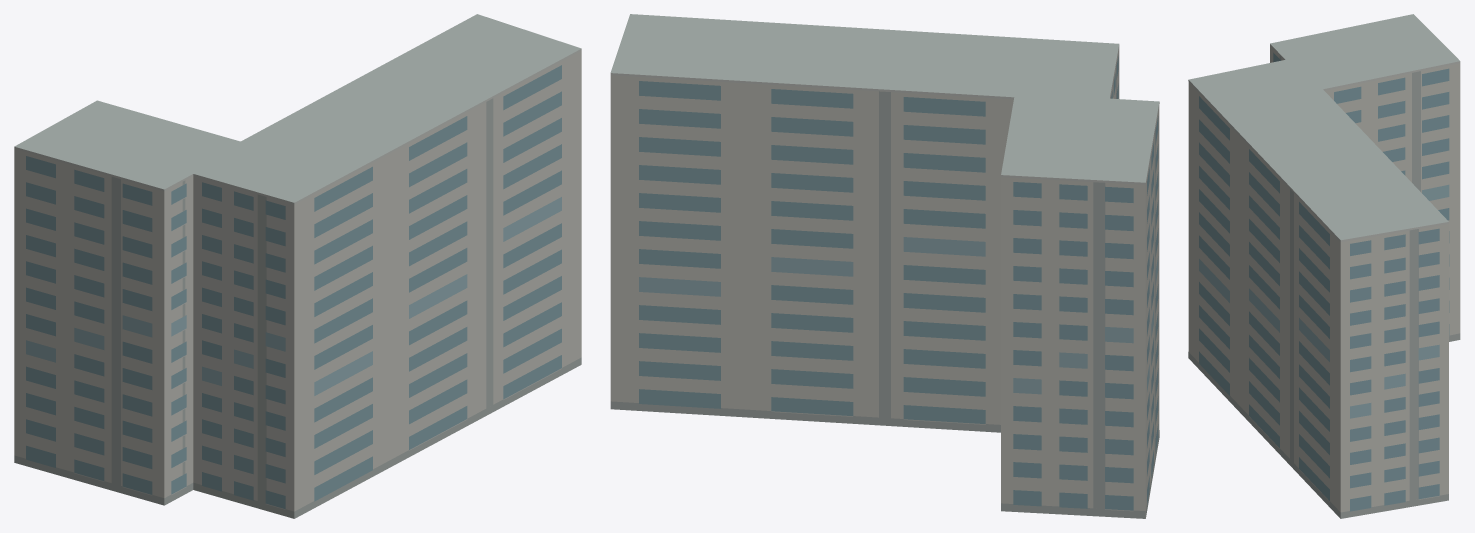
Rendered from residential-50f7e1d7-42a2-4f2d-a00a-2c06bfb78778.glb.
3 renders of one model, left to right at view 1: azimuth 30°, elevation 25°; view 2: azimuth 150°, elevation 25°; view 3: azimuth 270°, elevation 25°, orthographic. The views are drawn at different scales.
Visible parts, largest first — view 1: residential-50f7e1d7-42a2-4f2d-a00a-2c06bfb78778.tmp; view 2: residential-50f7e1d7-42a2-4f2d-a00a-2c06bfb78778.tmp; view 3: residential-50f7e1d7-42a2-4f2d-a00a-2c06bfb78778.tmp.
Part boxes in pixels (x1,y1,x2,y2): residential-50f7e1d7-42a2-4f2d-a00a-2c06bfb78778.tmp: (14, 14, 581, 518); residential-50f7e1d7-42a2-4f2d-a00a-2c06bfb78778.tmp: (610, 14, 1159, 518); residential-50f7e1d7-42a2-4f2d-a00a-2c06bfb78778.tmp: (1188, 14, 1460, 518).
Size of the model in its own units: 63.77 by 36.6 by 32.38.
